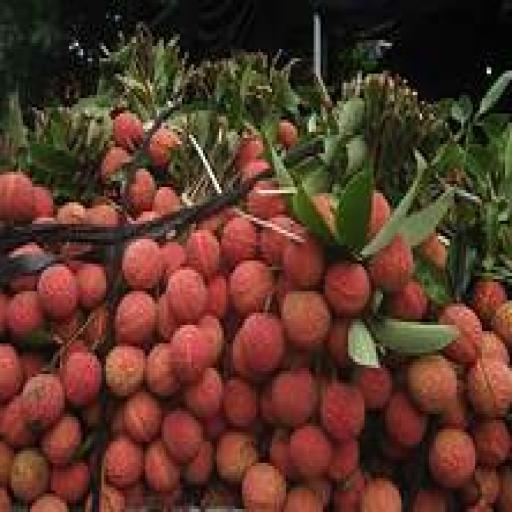lychee: (237, 313, 284, 377), (269, 368, 317, 429), (405, 356, 455, 413), (428, 430, 474, 490), (281, 292, 328, 349), (468, 359, 511, 420), (322, 261, 370, 315), (438, 304, 481, 364), (369, 237, 414, 294), (320, 384, 363, 441), (20, 375, 63, 432), (228, 261, 273, 315), (170, 325, 211, 383), (59, 350, 100, 407), (288, 424, 331, 478), (214, 430, 257, 484), (258, 215, 303, 266), (113, 292, 155, 346), (36, 264, 77, 318), (281, 237, 324, 288), (166, 267, 206, 321), (9, 448, 49, 502), (161, 408, 201, 462), (385, 393, 425, 447), (41, 414, 82, 466), (103, 347, 144, 398), (122, 390, 160, 444), (122, 240, 162, 291), (242, 463, 284, 511), (184, 368, 222, 420), (103, 436, 141, 487), (221, 378, 257, 429), (145, 439, 178, 493), (145, 344, 178, 398), (385, 279, 427, 321), (472, 421, 511, 466), (221, 218, 257, 266), (184, 230, 220, 278), (6, 292, 42, 340), (352, 368, 393, 410), (0, 172, 33, 223), (0, 396, 33, 447), (470, 279, 506, 324), (50, 460, 88, 502), (124, 169, 155, 217), (246, 181, 284, 220), (147, 126, 181, 168), (76, 264, 107, 309), (332, 470, 365, 511), (359, 479, 400, 511), (182, 442, 213, 484), (327, 439, 358, 481), (267, 430, 294, 478), (0, 344, 22, 401), (113, 111, 144, 150), (366, 191, 391, 239), (198, 313, 222, 361), (235, 132, 264, 171), (99, 148, 130, 183), (327, 319, 349, 367), (85, 485, 125, 511), (417, 234, 446, 269), (477, 332, 508, 364), (205, 273, 227, 318), (311, 194, 335, 233), (161, 243, 185, 282), (156, 295, 176, 340), (283, 488, 321, 511), (410, 488, 446, 511), (85, 203, 118, 226), (152, 188, 181, 214), (18, 353, 45, 380), (32, 184, 54, 217), (495, 467, 511, 511), (29, 494, 68, 511), (276, 120, 296, 150), (55, 203, 84, 223), (239, 160, 268, 180), (0, 442, 12, 487), (9, 243, 42, 257)
